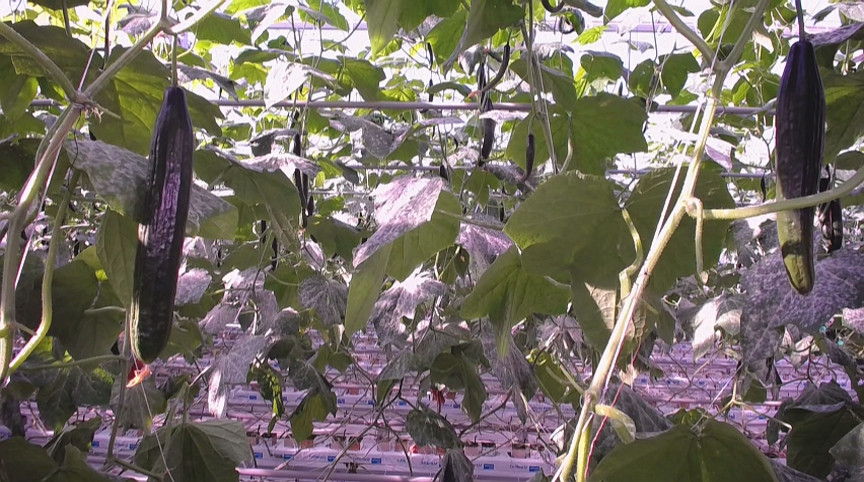cucumber: (130, 88, 193, 363), (775, 42, 824, 294)
